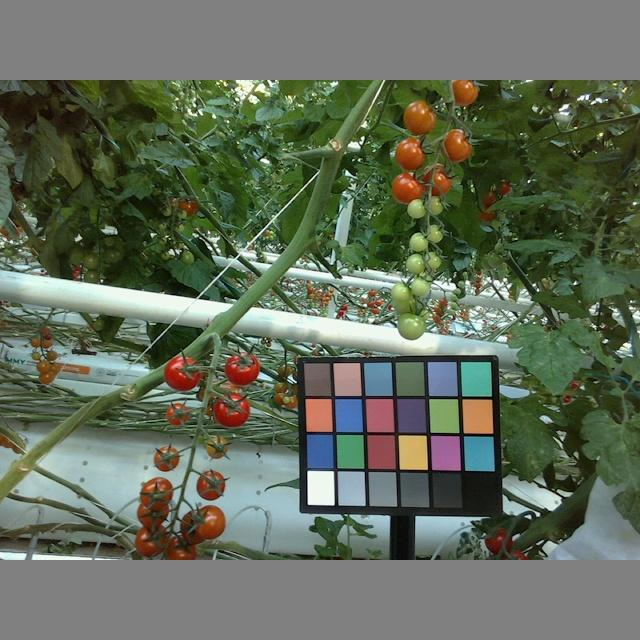green: (397, 311, 425, 340), (418, 251, 444, 272), (389, 282, 411, 305), (408, 277, 432, 298), (425, 195, 443, 219), (404, 254, 424, 275), (407, 198, 426, 219), (408, 232, 428, 251), (423, 225, 442, 243)
pink: (190, 505, 228, 539), (403, 100, 436, 137), (135, 523, 169, 558), (139, 477, 173, 510), (439, 130, 471, 162), (394, 139, 425, 172), (421, 164, 451, 198), (196, 469, 227, 501), (136, 501, 171, 528), (390, 174, 423, 202), (449, 81, 480, 110), (152, 446, 181, 471), (204, 433, 231, 459), (166, 401, 190, 427)
red: (163, 356, 202, 393), (212, 393, 251, 428), (224, 351, 262, 385)
